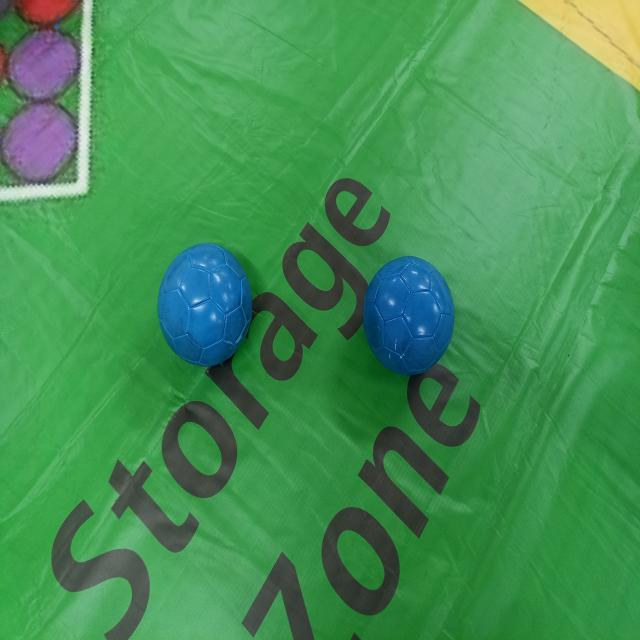blue_ball: (153, 238, 258, 370), (362, 253, 458, 376)
